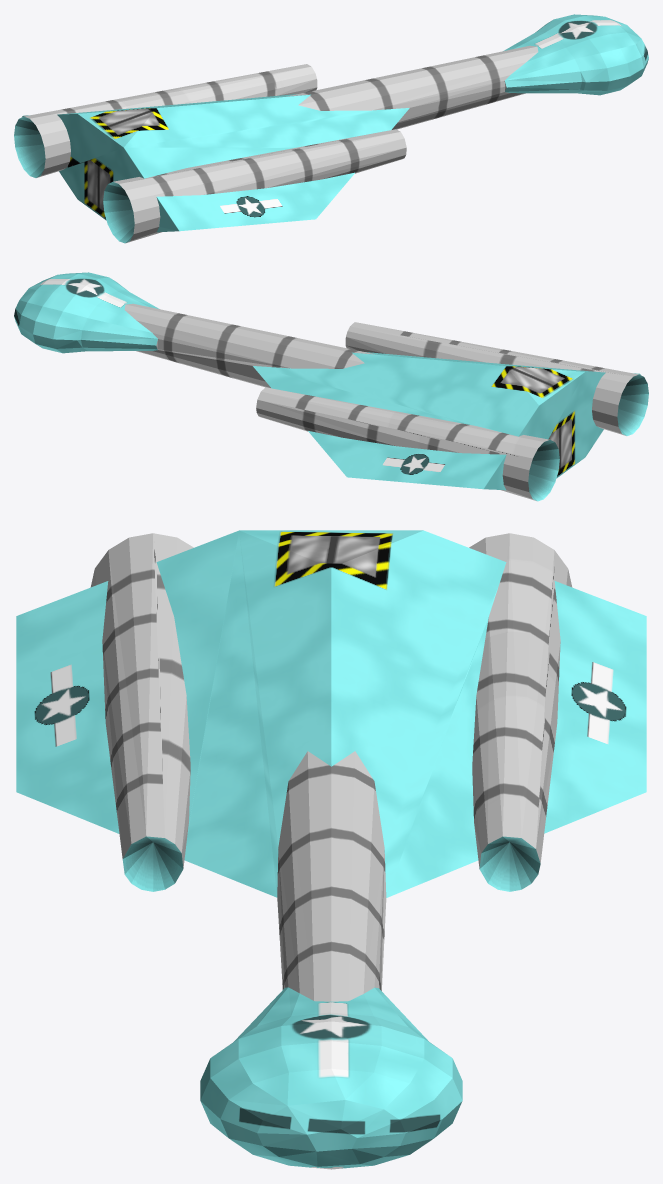
File: conqueror.obj
The picture shows the model from 3 angles, top to bottom: view 1: azimuth 30°, elevation 25°; view 2: azimuth 150°, elevation 25°; view 3: azimuth 270°, elevation 25°; orthographic projection. The views are drawn at different scales.
Parts seen in each view (by area): view 1: Conqueror; view 2: Conqueror; view 3: Conqueror.
Part boxes in pixels (<box>): Conqueror: <box>14,14,648,243</box>; Conqueror: <box>14,272,648,501</box>; Conqueror: <box>16,530,646,1169</box>.
Size of the model in its own units: 102 by 16.39 by 49.5.
Materials: 1 (1 with a texture image).
